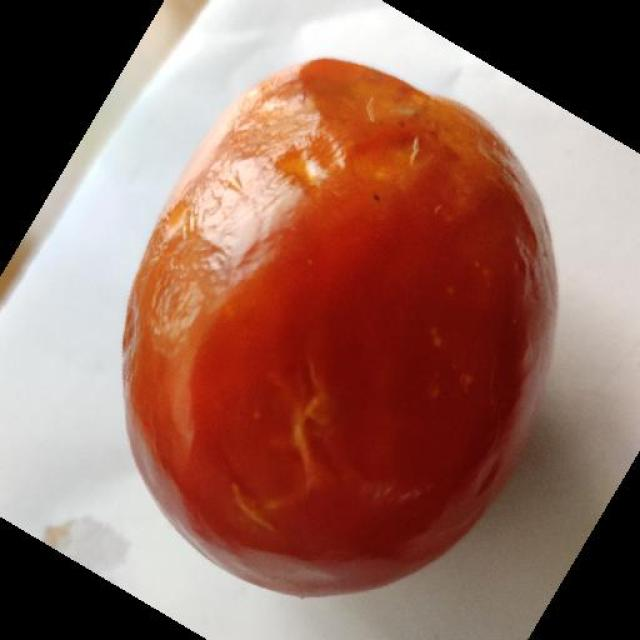Stale_tomato: (143, 59, 551, 585)
